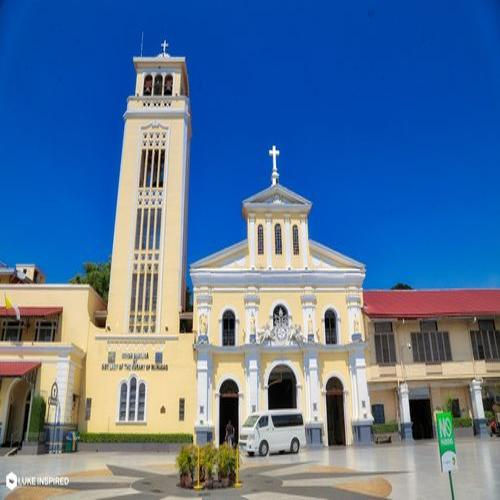Manaoag Church: (83, 33, 368, 454)
